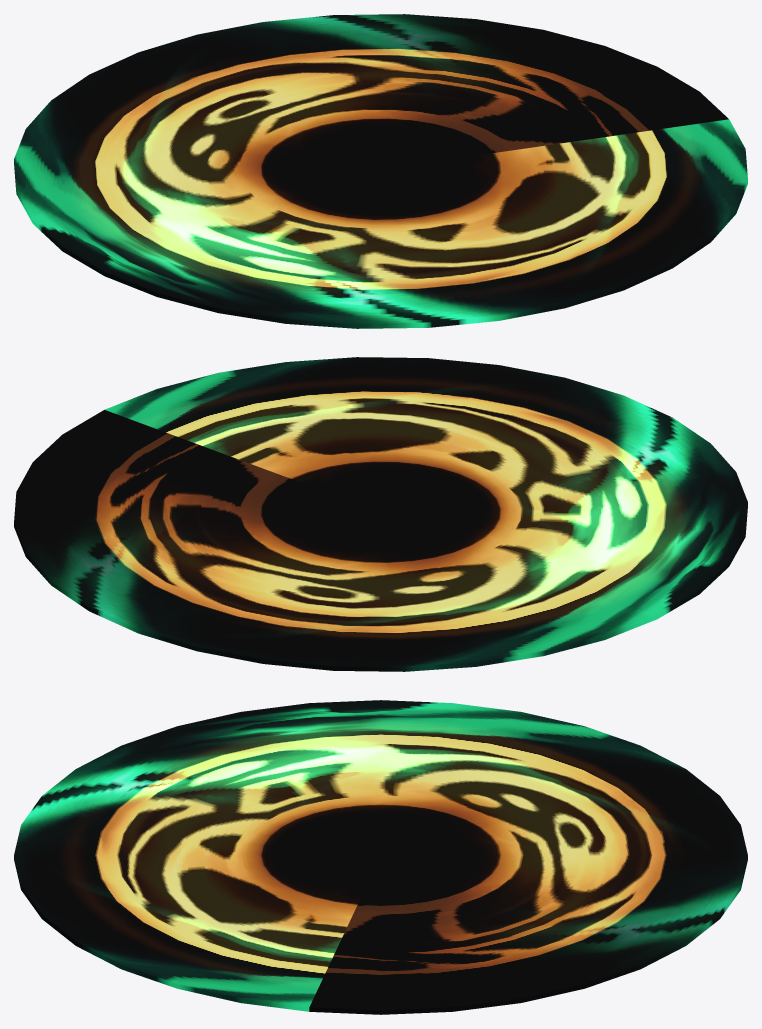
File: DamageAura.fbx
3 renders of one model, top to bottom at view 1: azimuth 30°, elevation 25°; view 2: azimuth 150°, elevation 25°; view 3: azimuth 270°, elevation 25°, orthographic.
Parts seen in each view (by area): view 1: polySurface1; view 2: polySurface1; view 3: polySurface1.
Part boxes in pixels (<box>): polySurface1: <box>14,14,747,328</box>; polySurface1: <box>14,357,747,671</box>; polySurface1: <box>14,700,747,1014</box>.
Bounding box in the file's own units: 626 × 4.25 × 626.
